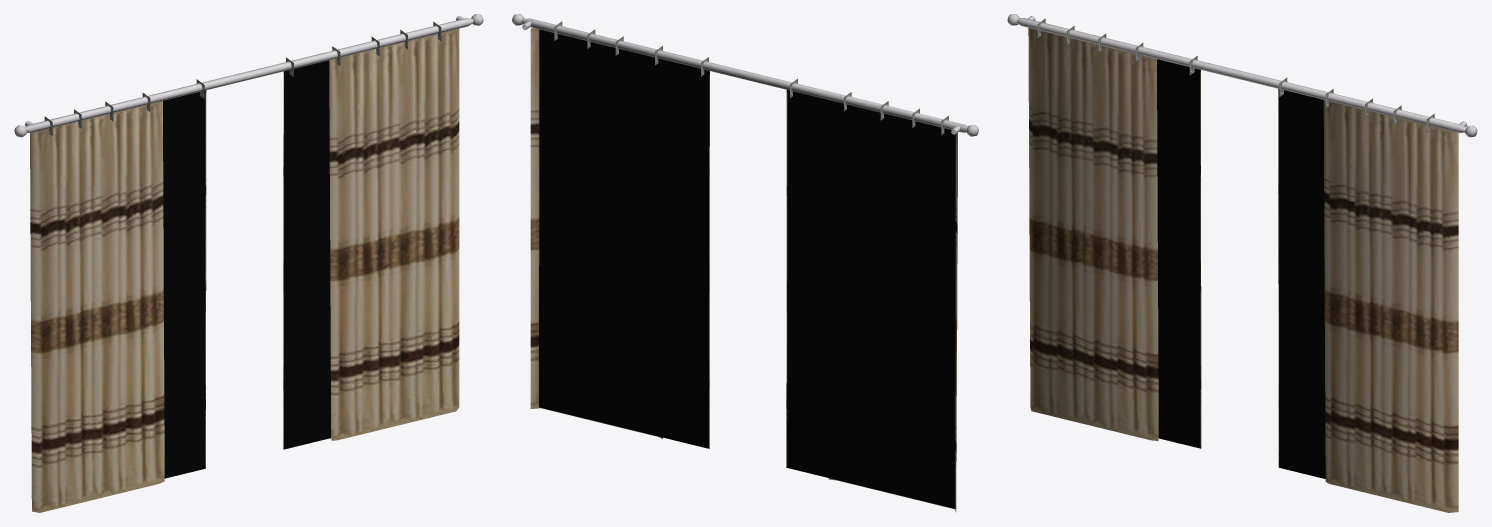
File: furni_0200152.FBX
3 renders of one model, left to right at view 1: azimuth 30°, elevation 25°; view 2: azimuth 150°, elevation 25°; view 3: azimuth 330°, elevation 25°, orthographic.
Parts seen in each view (by area): view 1: furni_0200152; view 2: furni_0200152; view 3: furni_0200152.
Boxes of the visible parts, x1,y1,x2,y2 form: furni_0200152: [14, 14, 483, 512]; furni_0200152: [512, 14, 978, 512]; furni_0200152: [1007, 14, 1477, 512].
Size of the model in its own units: 353 by 282 by 13.37.
2 materials, 2 textured.
